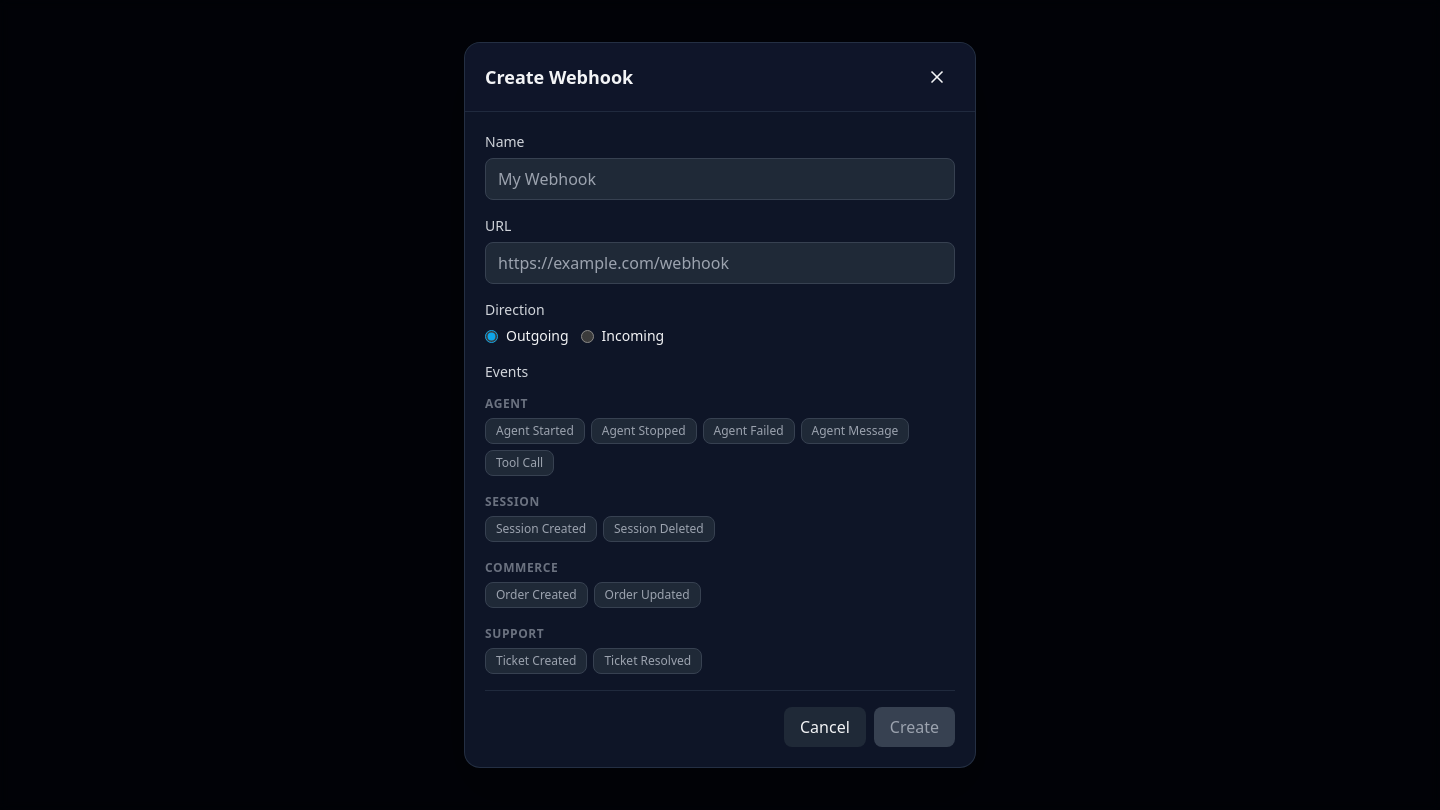
Test case: WebhookForm › disables submit until name, url and at least one event are provided
expect the button with aria-label "Create webhook" is disabled: met, box left=874, top=707, right=955, bottom=747
Step 1. Type "My Hook" into the field labelled "Name" → (720, 179), box left=485, top=158, right=955, bottom=200
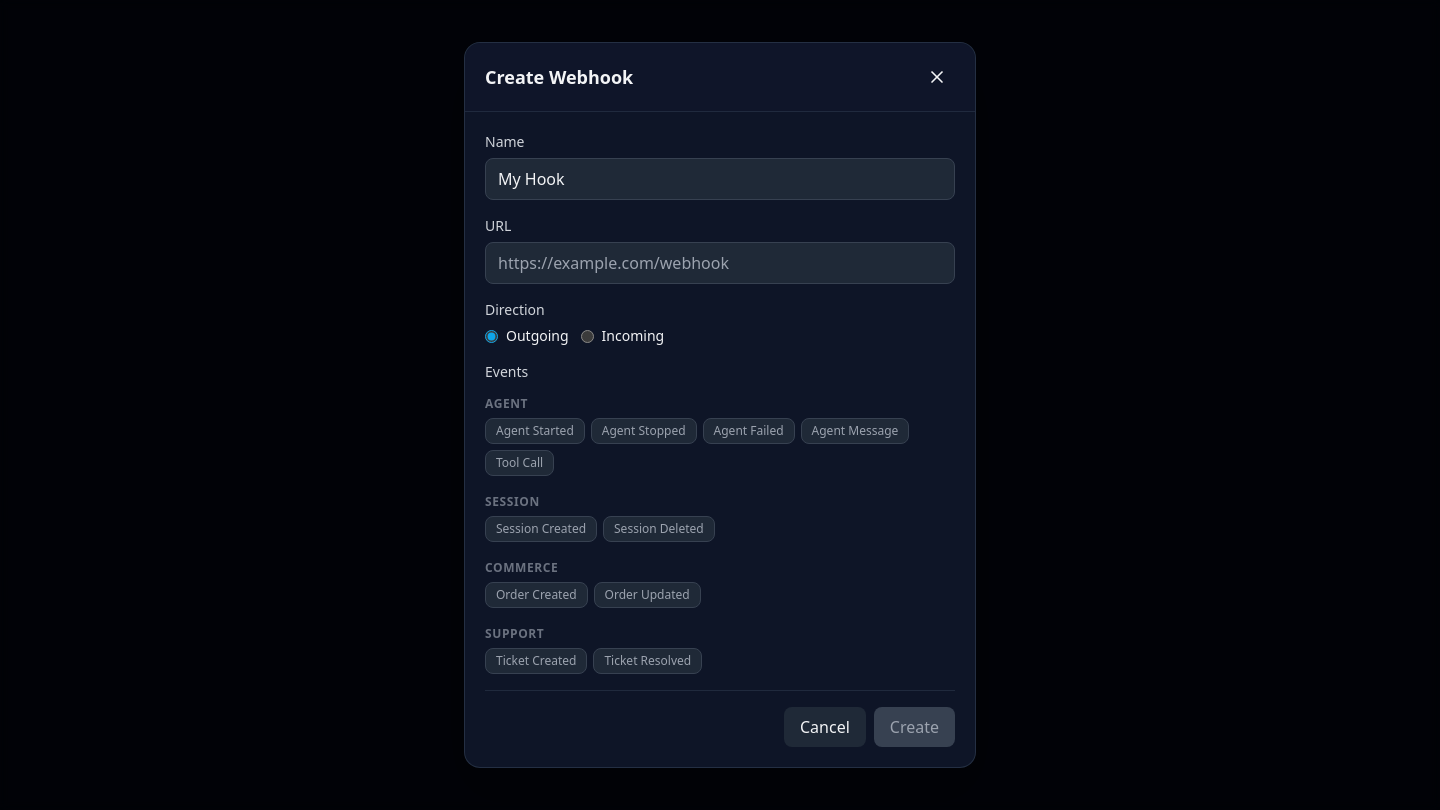
Step 2. Type "https://example.com/hook" into the field labelled "URL" → (720, 263), box left=485, top=242, right=955, bottom=284
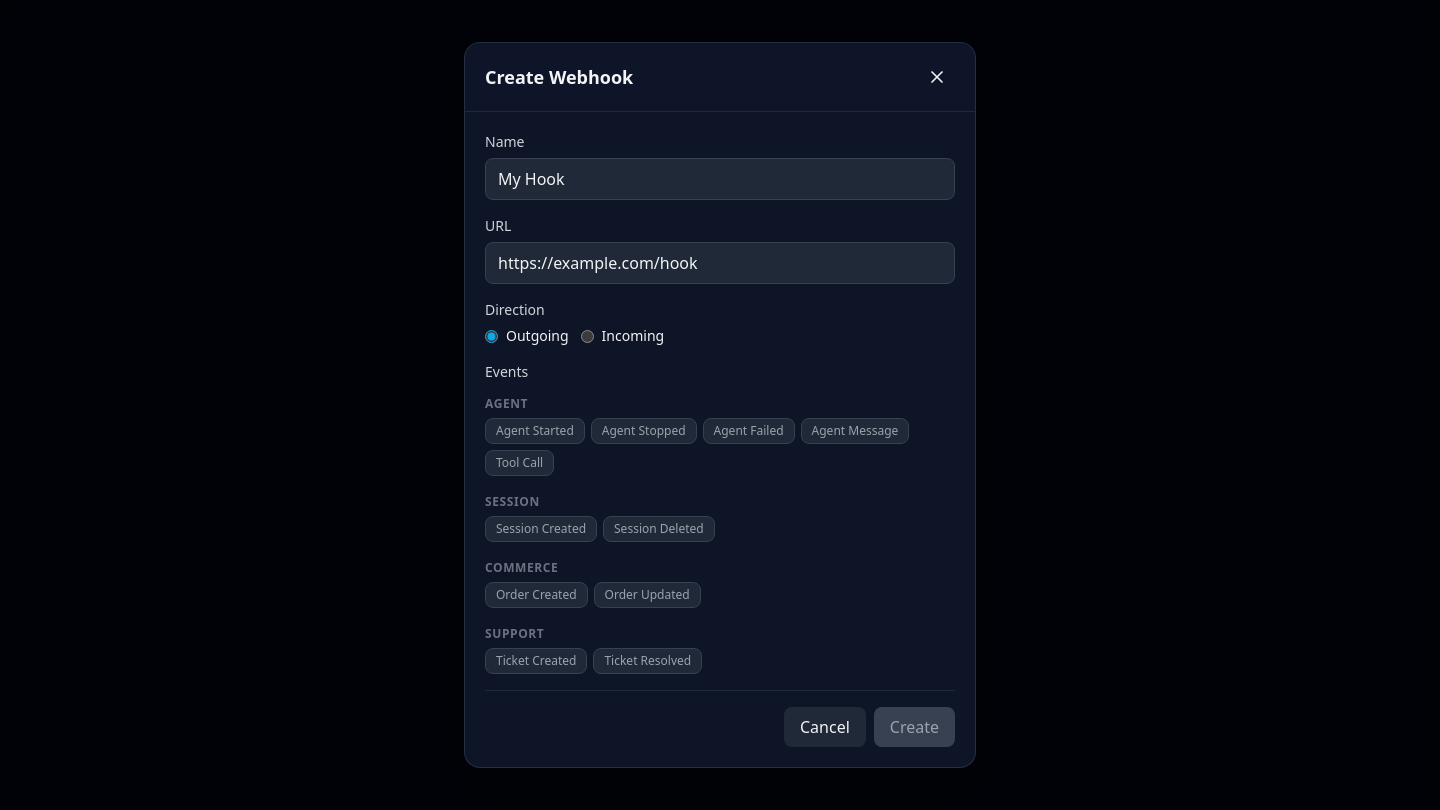
expect the button with aria-label "Create webhook" is disabled: met, box left=874, top=707, right=955, bottom=747
Step 3. Click the button "Agent Started" → click(535, 431), box left=485, top=418, right=585, bottom=444
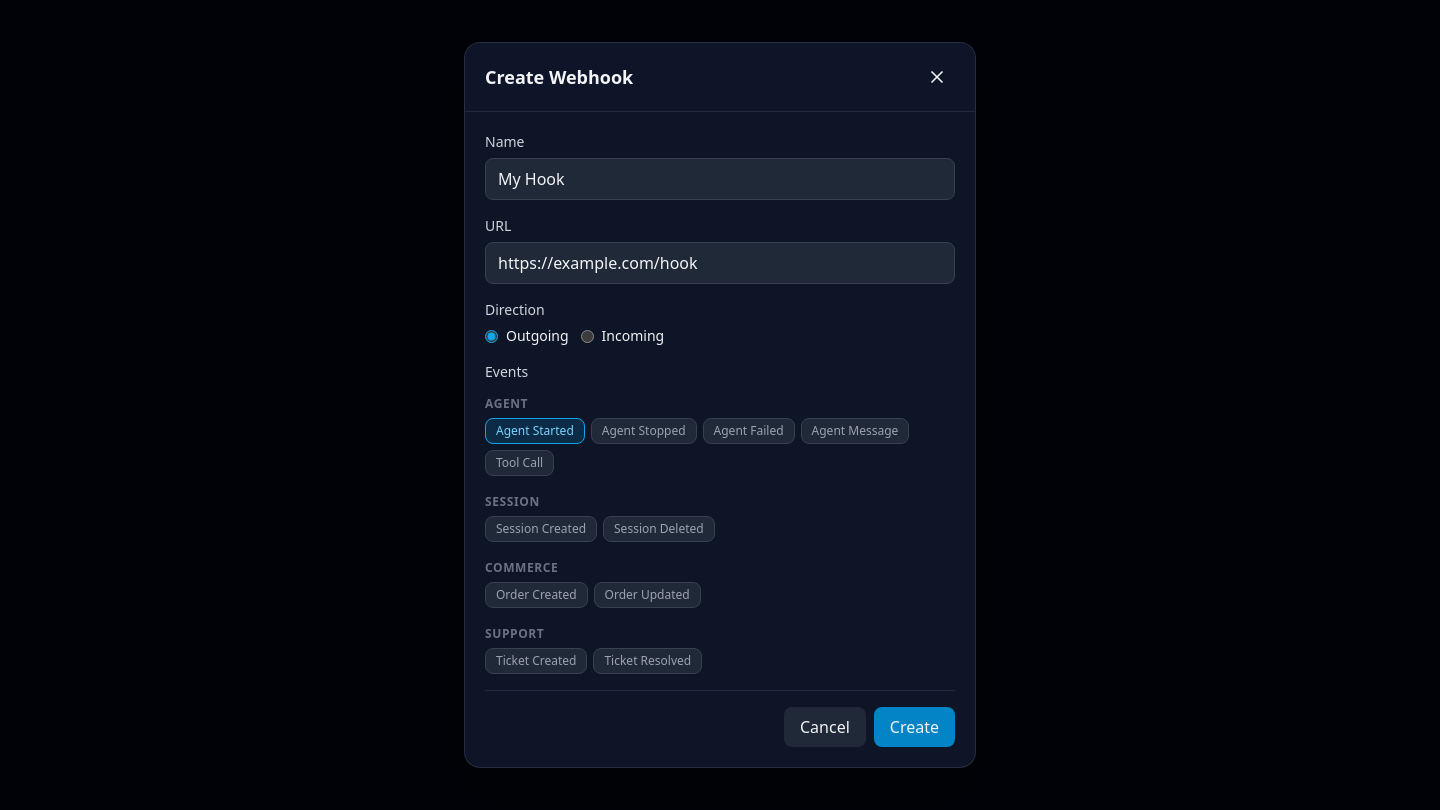
expect the button with aria-label "Create webhook" is enabled: met, box left=874, top=707, right=955, bottom=747
